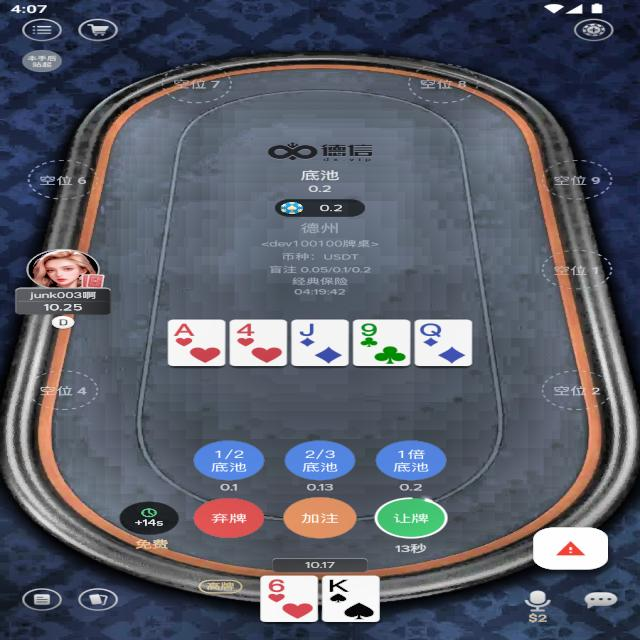4h: (235, 322, 258, 338)
6h: (266, 577, 289, 593)
9m: (358, 322, 380, 338)
Ah: (173, 321, 194, 337)
Jf: (296, 321, 316, 337)
Ks: (326, 578, 350, 593)
Qf: (417, 321, 445, 338)
